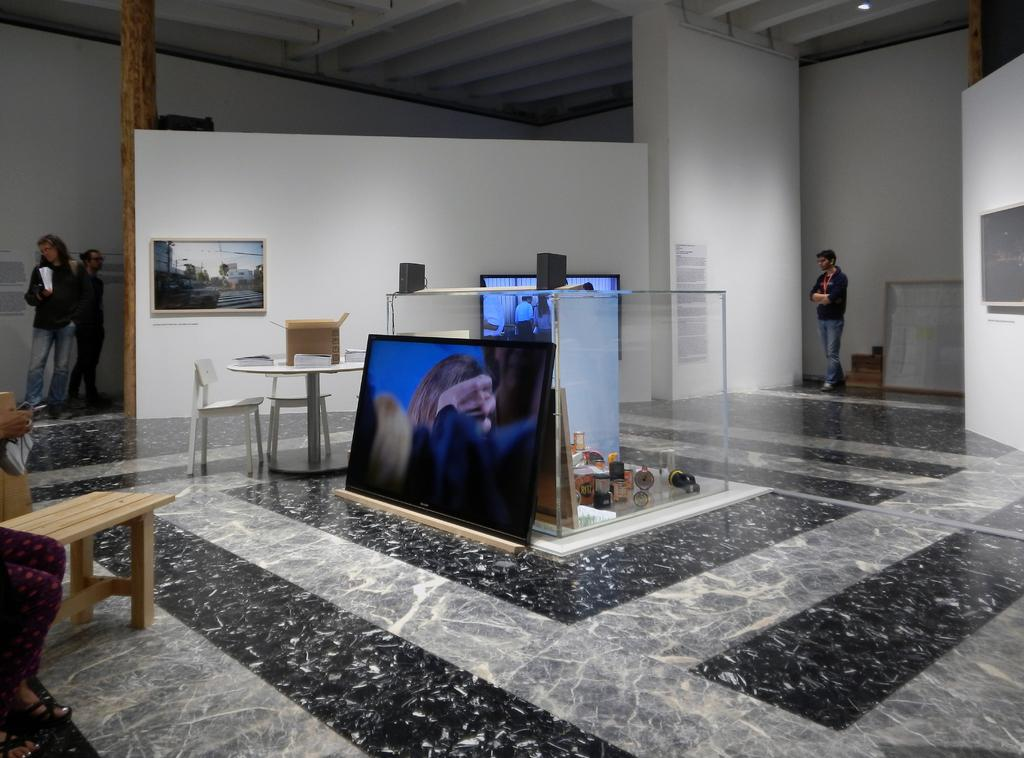Computer-monitor: (340, 334, 559, 554), (472, 273, 623, 364), (145, 236, 268, 314), (977, 196, 1023, 305)
